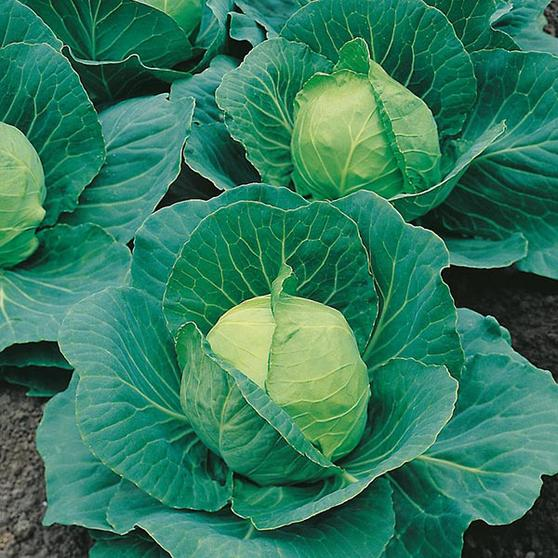cabbage: (184, 293, 377, 466), (286, 49, 448, 206)
